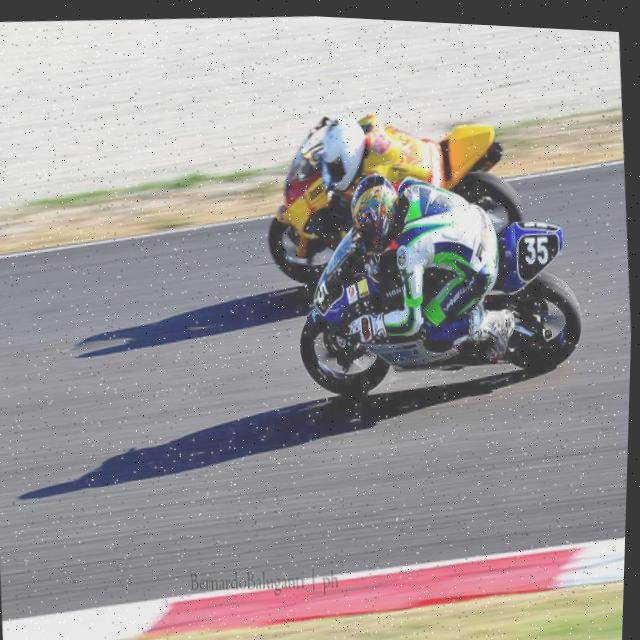motorcycle: (280, 151, 597, 416)
